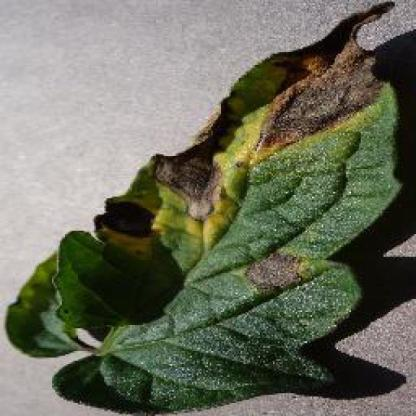Tomato_Blight: (54, 1, 397, 396)
